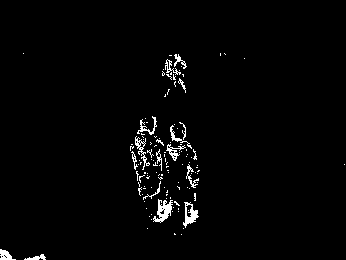person: (129, 113, 166, 229), (165, 122, 201, 230), (164, 51, 188, 99)
